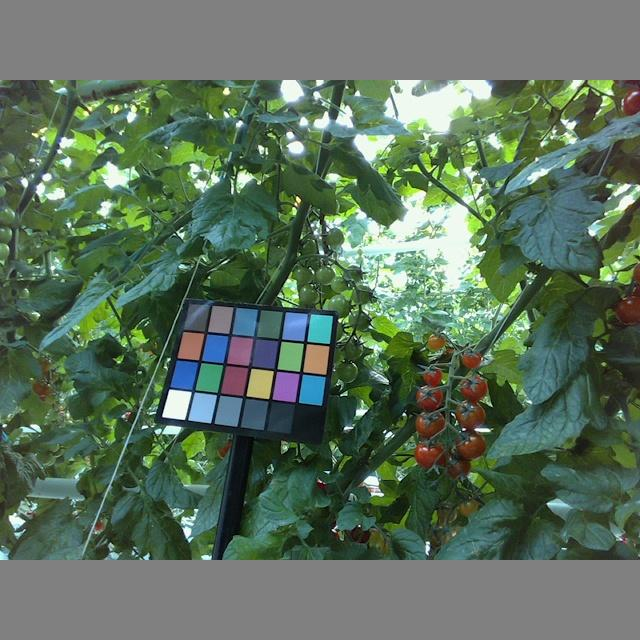green: (339, 338, 366, 363), (311, 263, 337, 288), (294, 288, 320, 313), (348, 285, 377, 307), (325, 227, 349, 252), (324, 294, 350, 317), (338, 362, 358, 381), (292, 268, 313, 282)
pink: (457, 497, 480, 516), (425, 334, 451, 350)
red: (412, 412, 451, 436), (412, 444, 452, 467), (457, 401, 487, 430), (455, 433, 489, 458), (419, 387, 452, 410), (460, 374, 488, 400), (618, 296, 640, 323), (423, 365, 447, 388), (459, 349, 484, 368), (445, 460, 470, 475)
